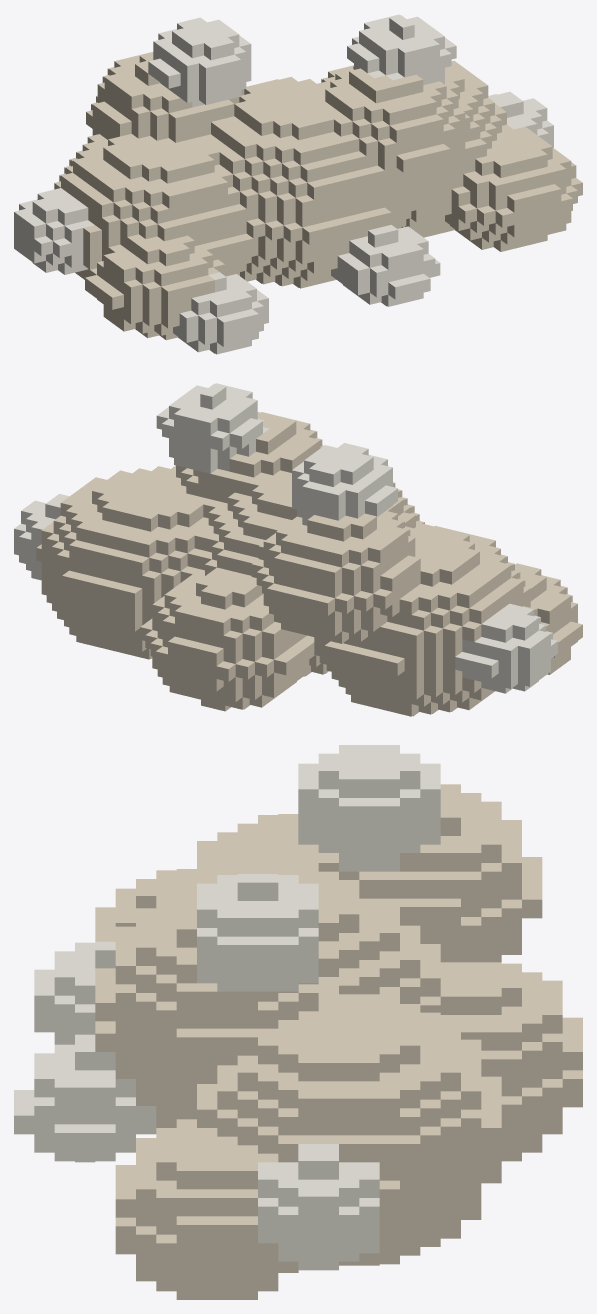
The model's file is parabolan_wool_staple.glb.
The picture shows the model from 3 angles, top to bottom: view 1: azimuth 30°, elevation 25°; view 2: azimuth 150°, elevation 25°; view 3: azimuth 270°, elevation 25°; orthographic projection. The views are drawn at different scales.
Parts seen in each view (by area): view 1: parabolan_wool_staple:compound; view 2: parabolan_wool_staple:compound; view 3: parabolan_wool_staple:compound.
Boxes of the visible parts, bbox=[...] form: parabolan_wool_staple:compound: bbox=[14, 14, 582, 354]; parabolan_wool_staple:compound: bbox=[14, 383, 582, 716]; parabolan_wool_staple:compound: bbox=[14, 745, 582, 1299].
Bounding box in the file's own units: 0.172 × 0.076 × 0.112.
